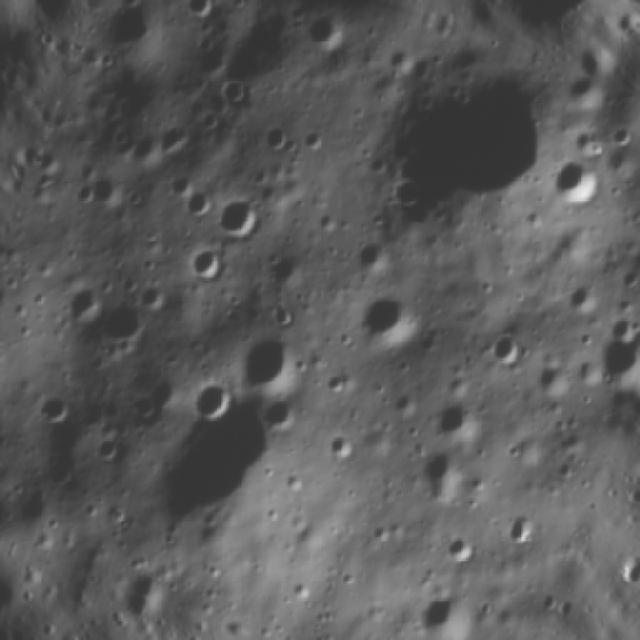crater: (328, 25, 587, 274), (213, 310, 319, 416), (75, 0, 176, 78), (531, 140, 620, 228), (349, 278, 442, 362), (84, 283, 170, 368), (385, 430, 469, 501), (199, 186, 279, 257), (580, 311, 640, 404), (540, 65, 618, 132), (408, 578, 490, 640), (179, 364, 246, 438), (475, 316, 542, 384), (428, 386, 495, 452), (69, 158, 134, 222), (175, 233, 237, 299), (295, 1, 362, 62), (339, 230, 395, 288), (556, 271, 612, 327), (429, 524, 485, 576), (173, 178, 224, 233), (120, 558, 178, 604), (30, 384, 81, 434), (499, 506, 547, 557), (178, 0, 225, 28), (221, 612, 259, 636), (0, 355, 5, 407)
